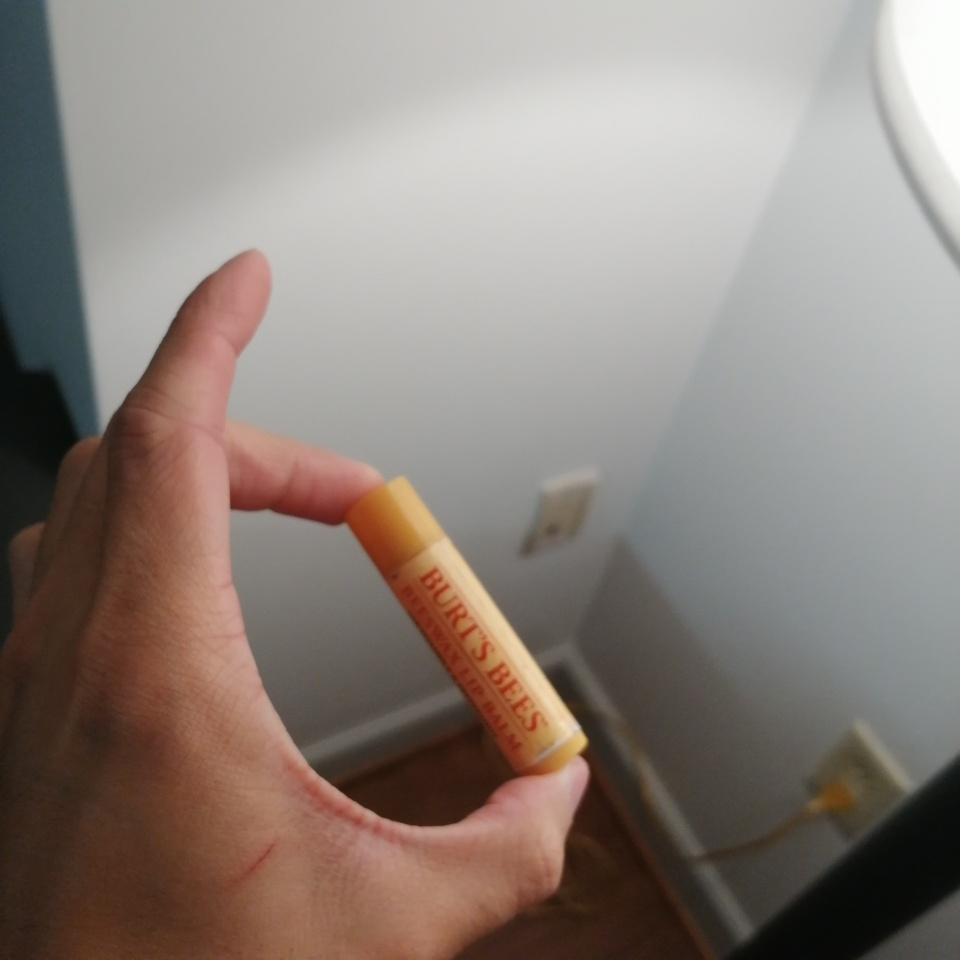chapstick: (344, 476, 589, 776)
